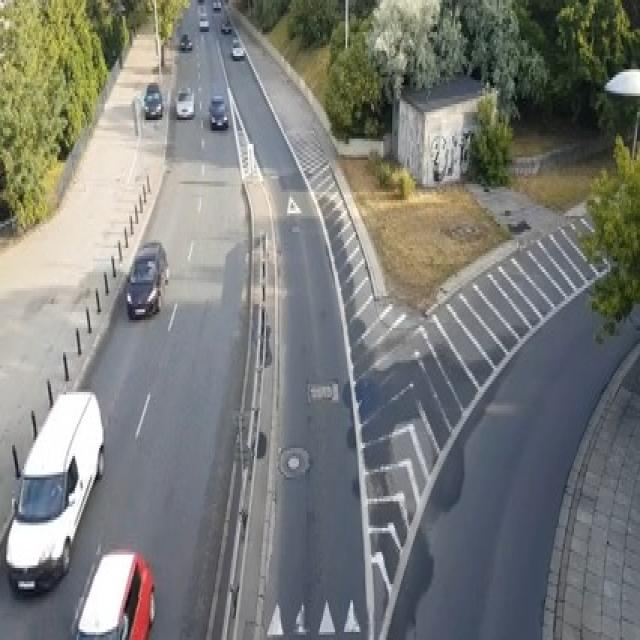car: (5, 389, 104, 595), (70, 544, 154, 637), (125, 240, 168, 317), (208, 93, 228, 128), (143, 83, 162, 117), (174, 86, 194, 118), (230, 37, 245, 59), (179, 32, 192, 51), (198, 16, 209, 29), (221, 19, 231, 32), (212, 0, 221, 11)
